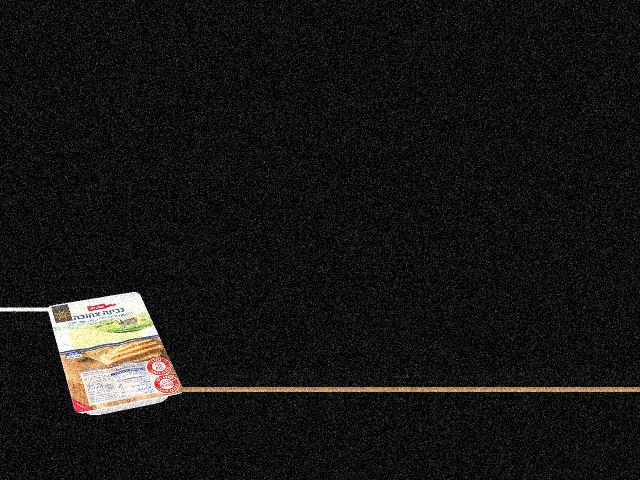cheese: (59, 293, 162, 412)
